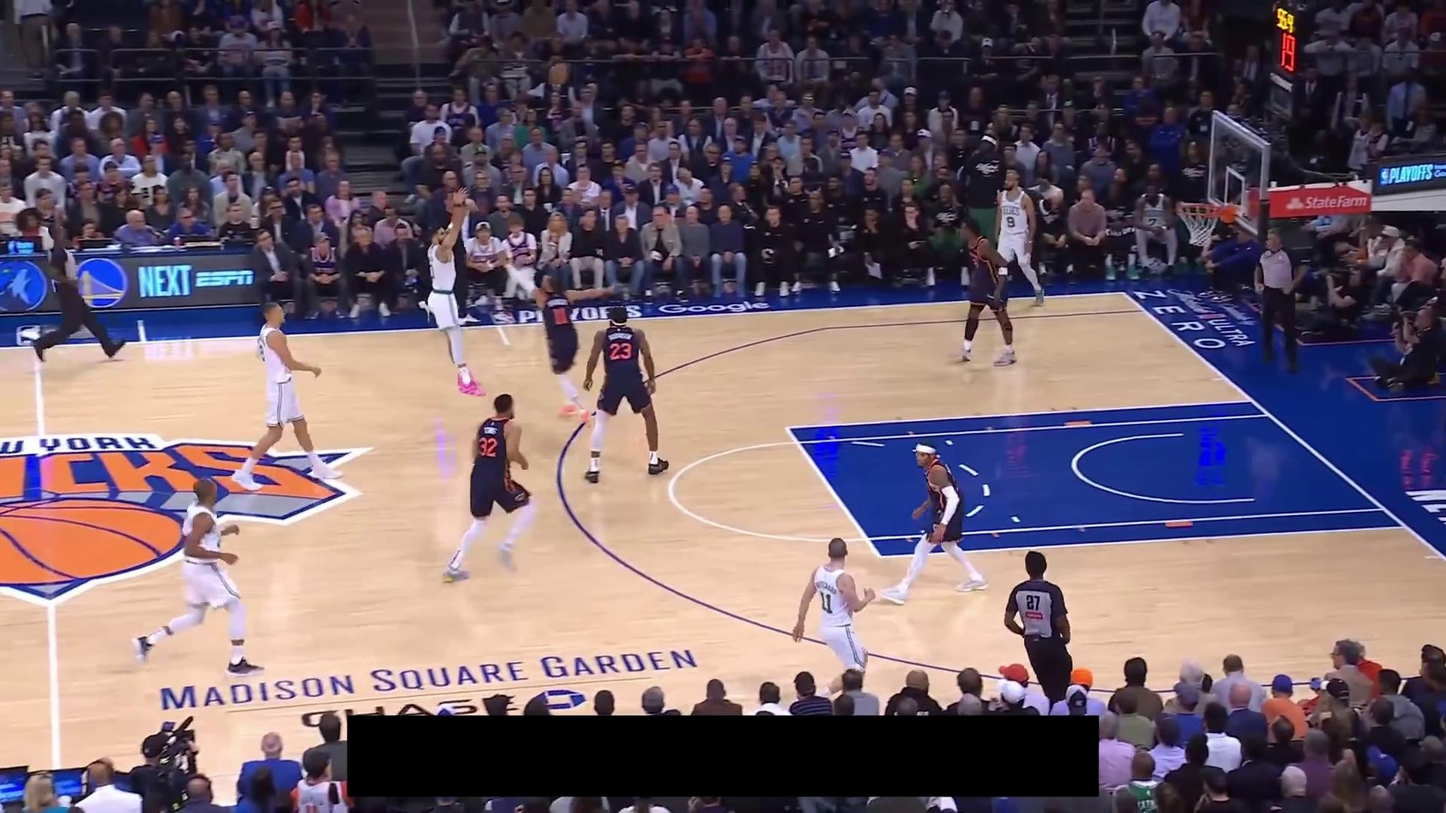ball: (548, 63, 570, 85)
number: (478, 435, 498, 458), (609, 343, 632, 361), (552, 306, 569, 326), (820, 592, 832, 614), (1005, 215, 1017, 229)
player: (130, 477, 266, 678), (230, 300, 346, 493), (875, 437, 990, 608), (441, 392, 535, 584), (786, 534, 882, 700), (581, 304, 670, 483), (949, 216, 1019, 368), (992, 166, 1046, 310)
player-jump-shot: (424, 186, 484, 400)
player-shot-block: (497, 251, 615, 428)
referee: (29, 221, 128, 364), (1003, 549, 1073, 713), (1252, 227, 1307, 373)
rim: (1176, 202, 1222, 217)
